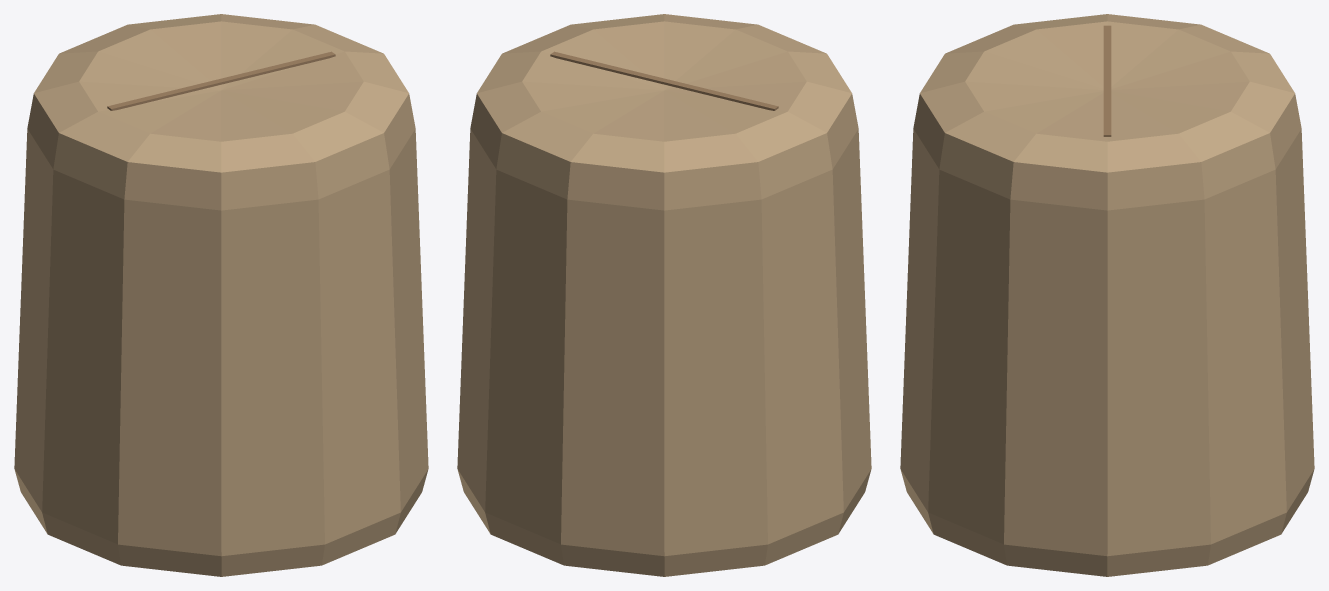
File: prop-butcher-block.fbx
3 renders of one model, left to right at view 1: azimuth 30°, elevation 25°; view 2: azimuth 150°, elevation 25°; view 3: azimuth 270°, elevation 25°, orthographic.
Visible parts, largest first — view 1: prop-butcher-block; view 2: prop-butcher-block; view 3: prop-butcher-block.
Part boxes in pixels (<box>): prop-butcher-block: <box>14,14,428,576</box>; prop-butcher-block: <box>457,14,871,576</box>; prop-butcher-block: <box>900,14,1314,576</box>.
Bounding box in the file's own units: 64 × 70.2 × 64.
